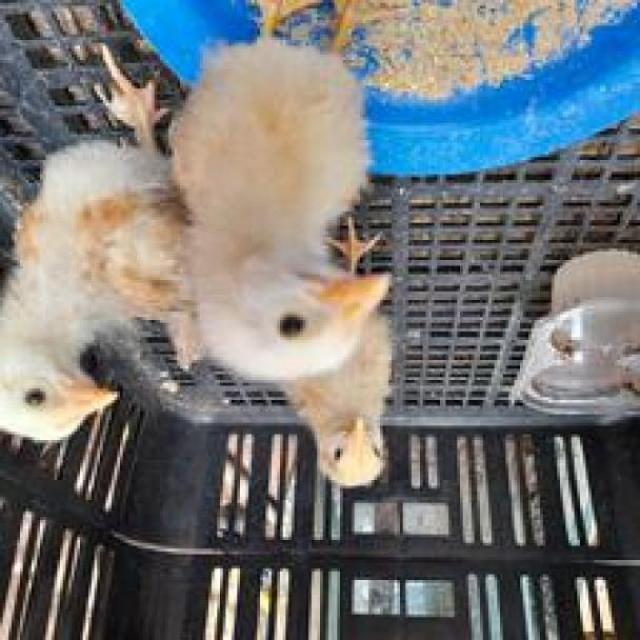Chicken: (159, 0, 386, 380), (7, 75, 155, 498)
